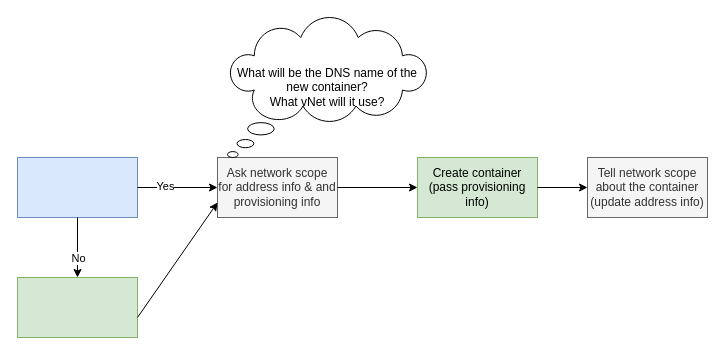
Some shapes in this 725 by 355 pixel diagram are drawn without their labels. The centre of each missing label's shape, as x and y in pixels:
Create network scope: the point at 77,307
Do we have a network scope?: the point at 77,187
